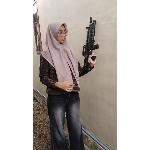Senapan: (80, 10, 106, 76)
